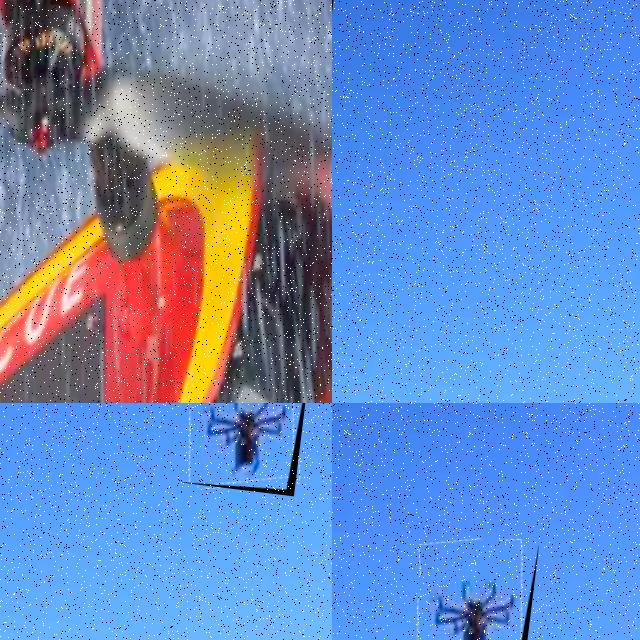0: (408, 531, 538, 640), (180, 403, 310, 496)
drone: (0, 0, 332, 403)
